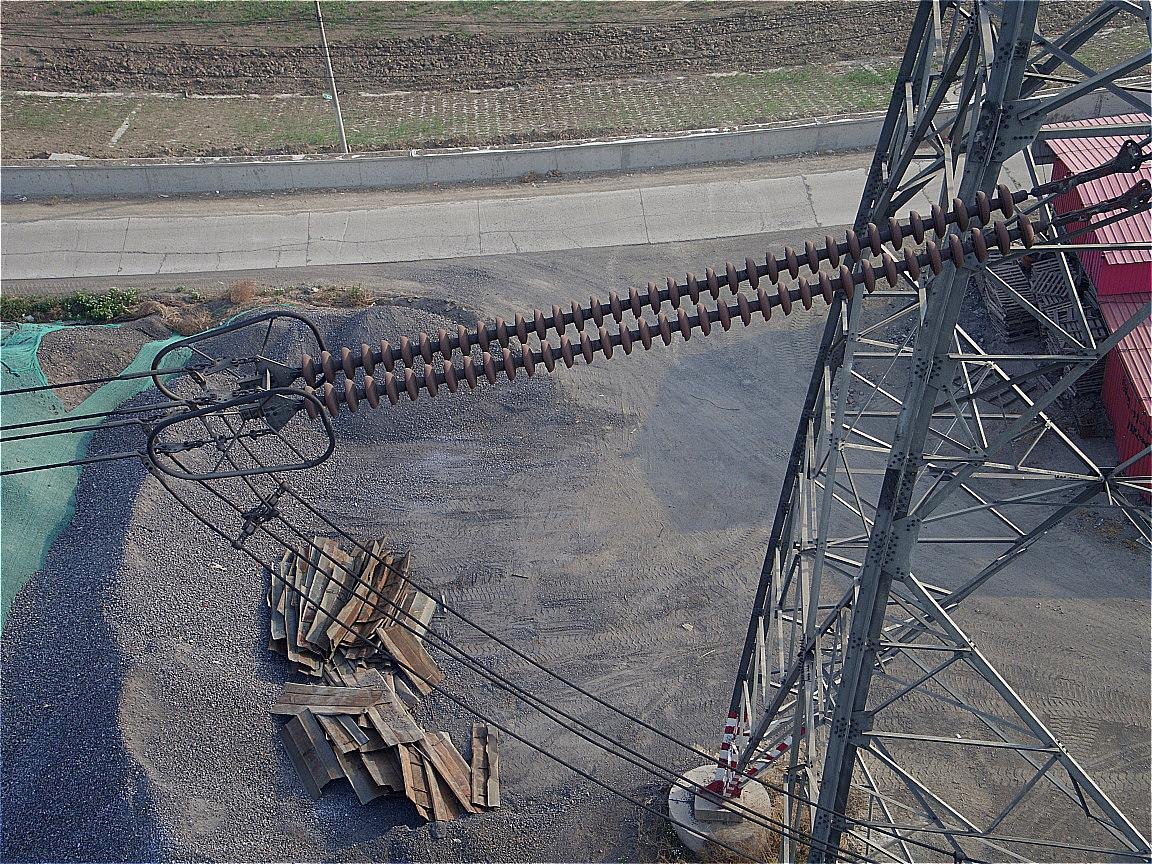insultor1: (301, 186, 1034, 420)
